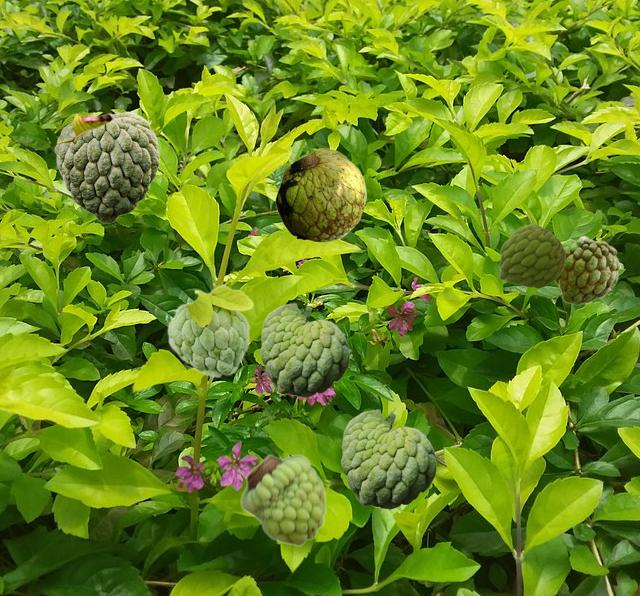atis: (54, 111, 158, 222), (341, 409, 435, 508), (275, 148, 365, 241), (260, 303, 348, 396), (166, 284, 253, 377), (240, 453, 326, 546), (555, 235, 619, 304), (499, 224, 564, 287)
